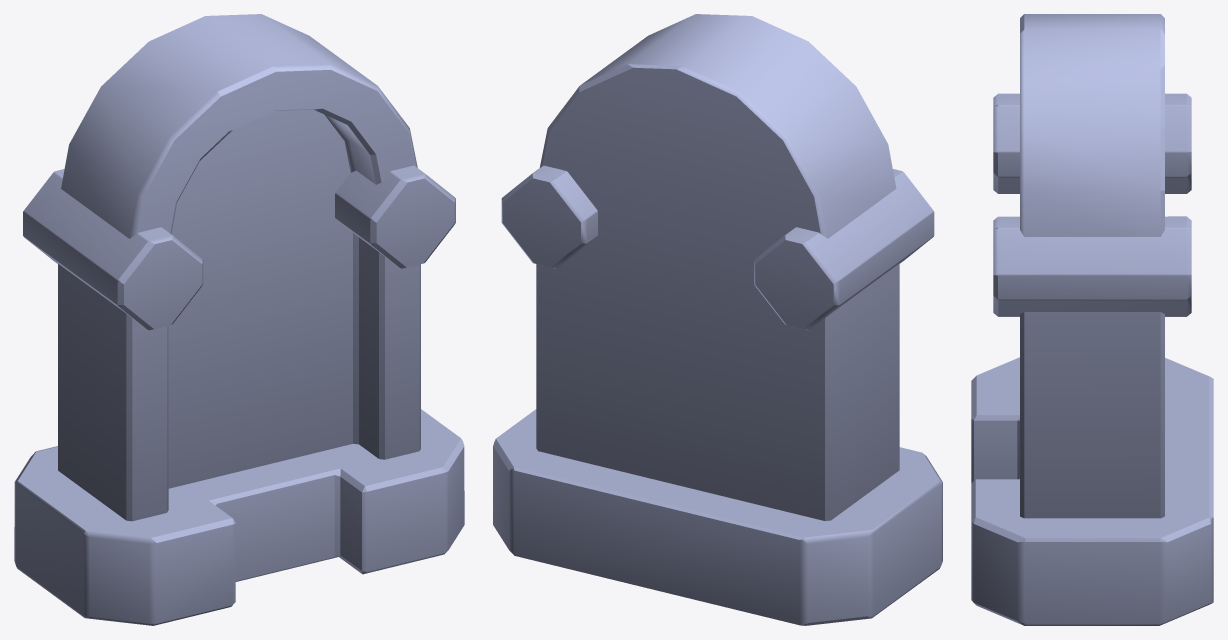
File: kenney-graveyard__gravestone-round.glb
The picture shows the model from 3 angles, left to right: view 1: azimuth 30°, elevation 25°; view 2: azimuth 150°, elevation 25°; view 3: azimuth 270°, elevation 25°; orthographic projection.
Visible parts, largest first — view 1: gravestone-round; view 2: gravestone-round; view 3: gravestone-round.
Part boxes in pixels (x1=…): gravestone-round: x1=14, y1=14, x2=464, y2=625; gravestone-round: x1=493, y1=14, x2=942, y2=625; gravestone-round: x1=971, y1=14, x2=1213, y2=625.
Size of the model in its own units: 0.45 by 0.575 by 0.25.
1 material, 1 textured.
